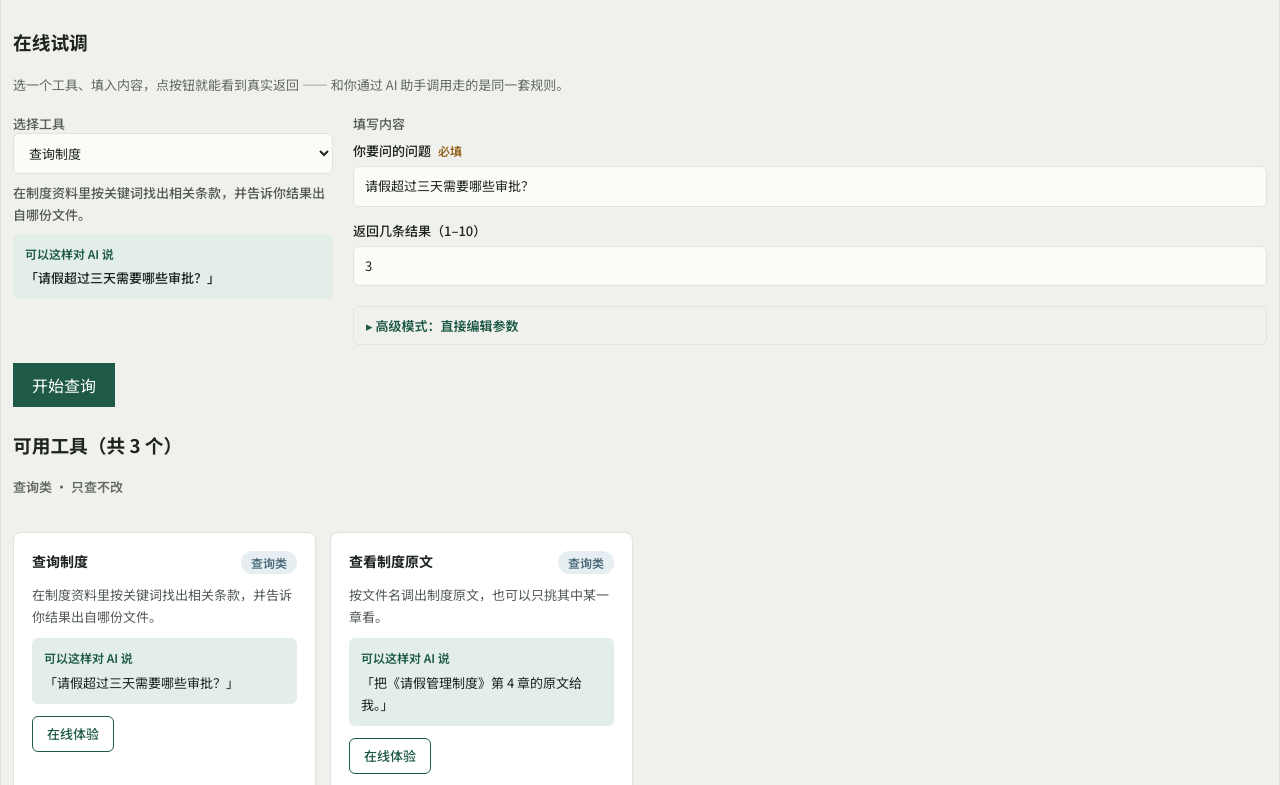
Test: explains failures with the backend user message rather than a raw error code
This screenshot has width=1280, height=785.
(page scrolled)
Click the button "开始查询": (64, 385) [13,363,115,407]
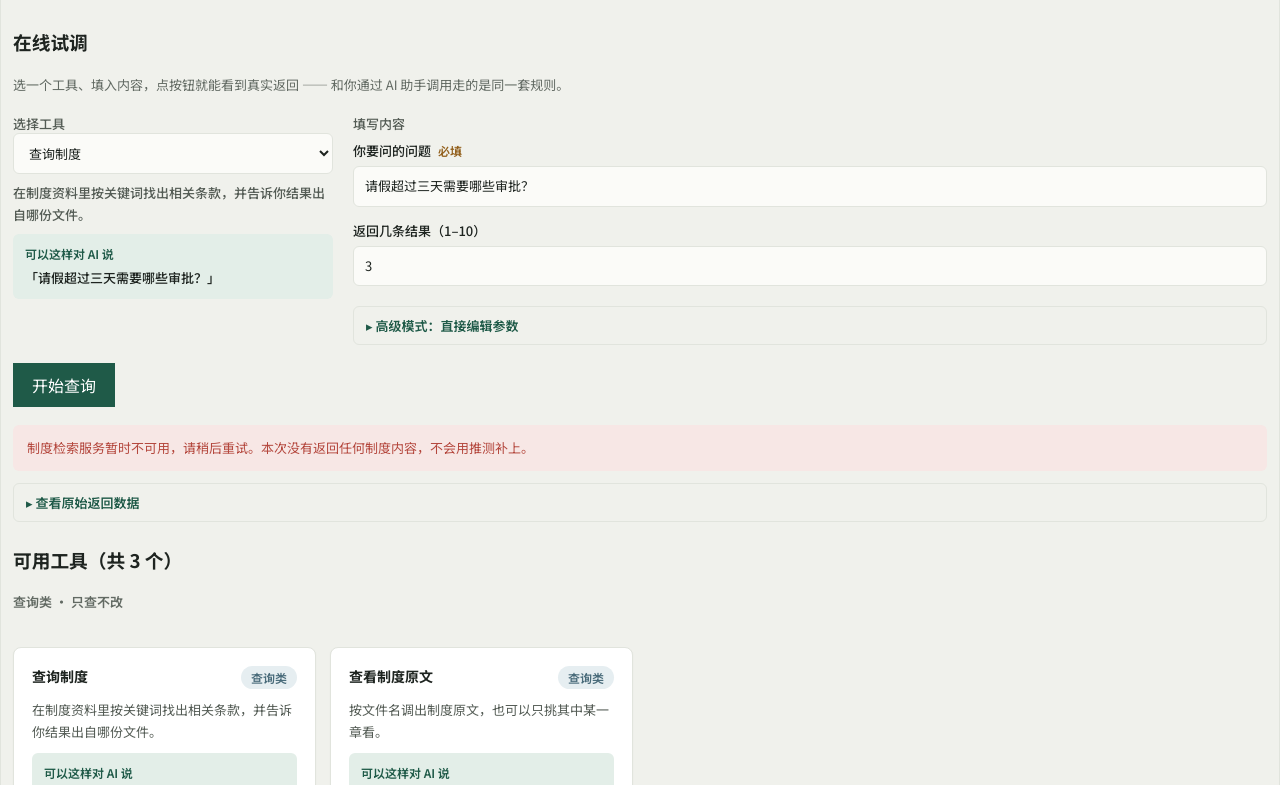
Expected: the text "制度检索服务暂时不可用，请稍后重试。本次没有返回任何制度内容，不会用推测补上。" does not show "RETRIEVAL_UNAVAILABLE", [13,425,1267,471]
Result: the text "制度检索服务暂时不可用，请稍后重试。本次没有返回任何制度内容，不会用推测补上。" is shown at [13,425,1267,471]
